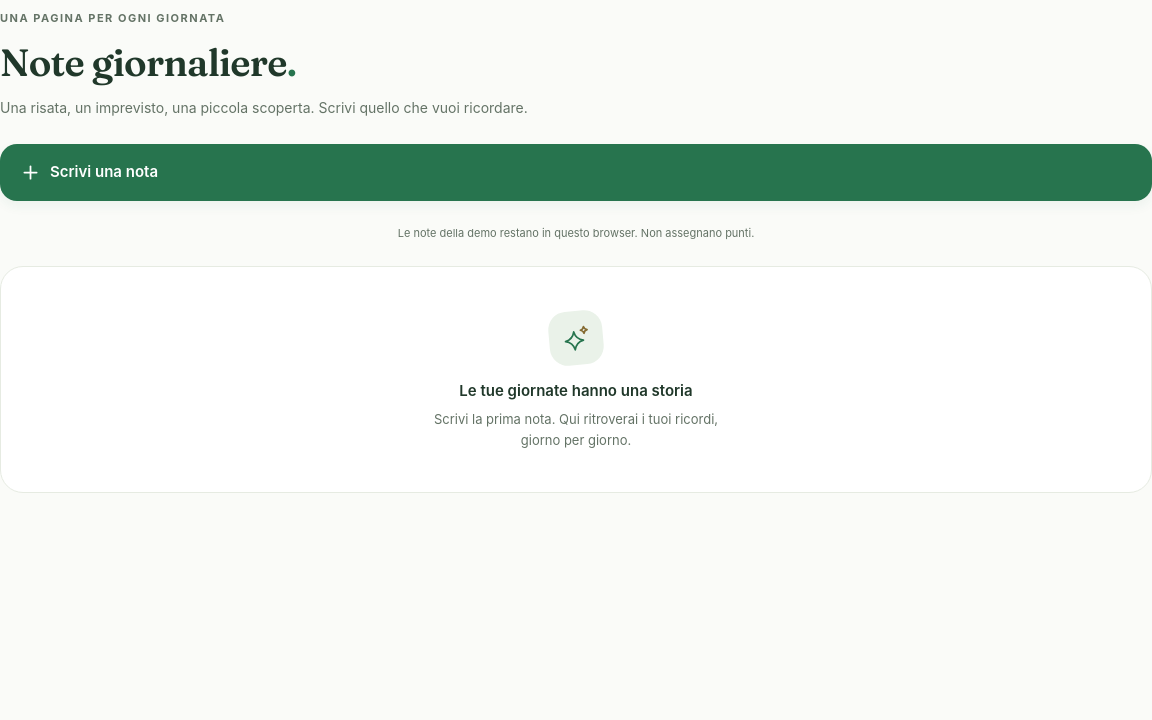
it: salva e rilegge le note raggruppate per giorno, con data italiana e rimozione confermata
Later steps or results of the test are not shown.
Click the button "Scrivi una nota".
click(104, 171)  # box [0, 144, 1151, 201]
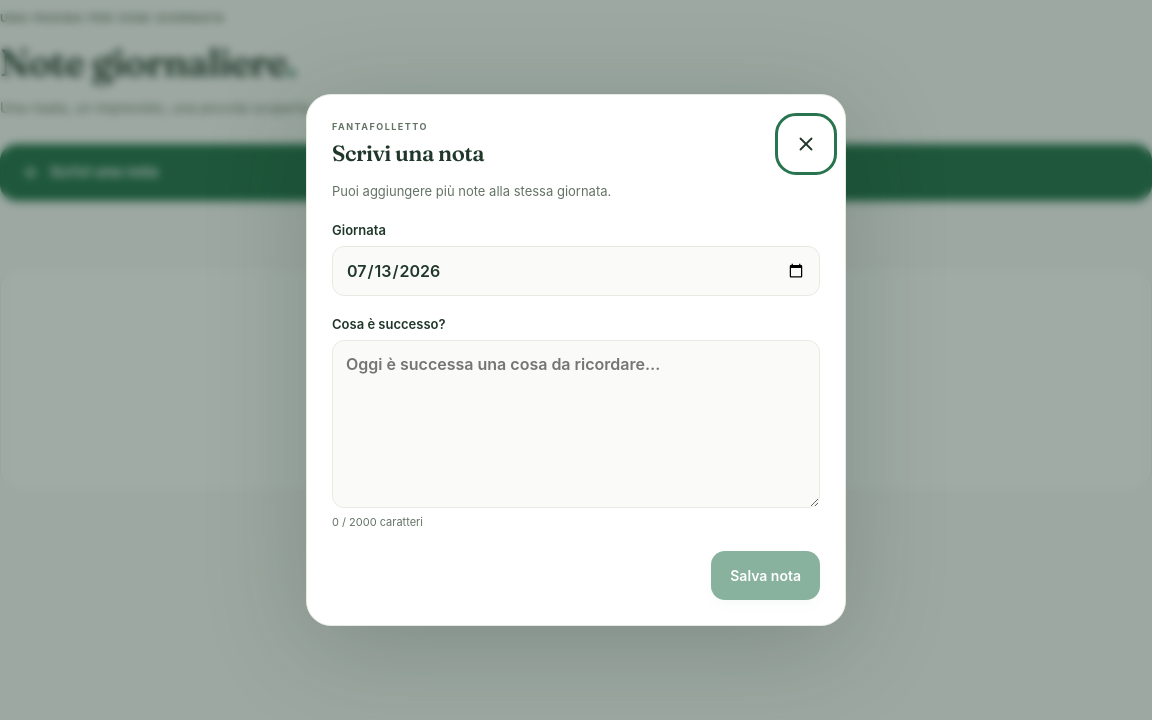
Now the date field labelled "Giornata" holds "2026-07-13", box [332, 246, 820, 296]
Type "Una risata da ricordare" into the text box labelled "Cosa è successo?".
click(576, 424); type("Una risata da ricordare")  # box [332, 340, 820, 508]
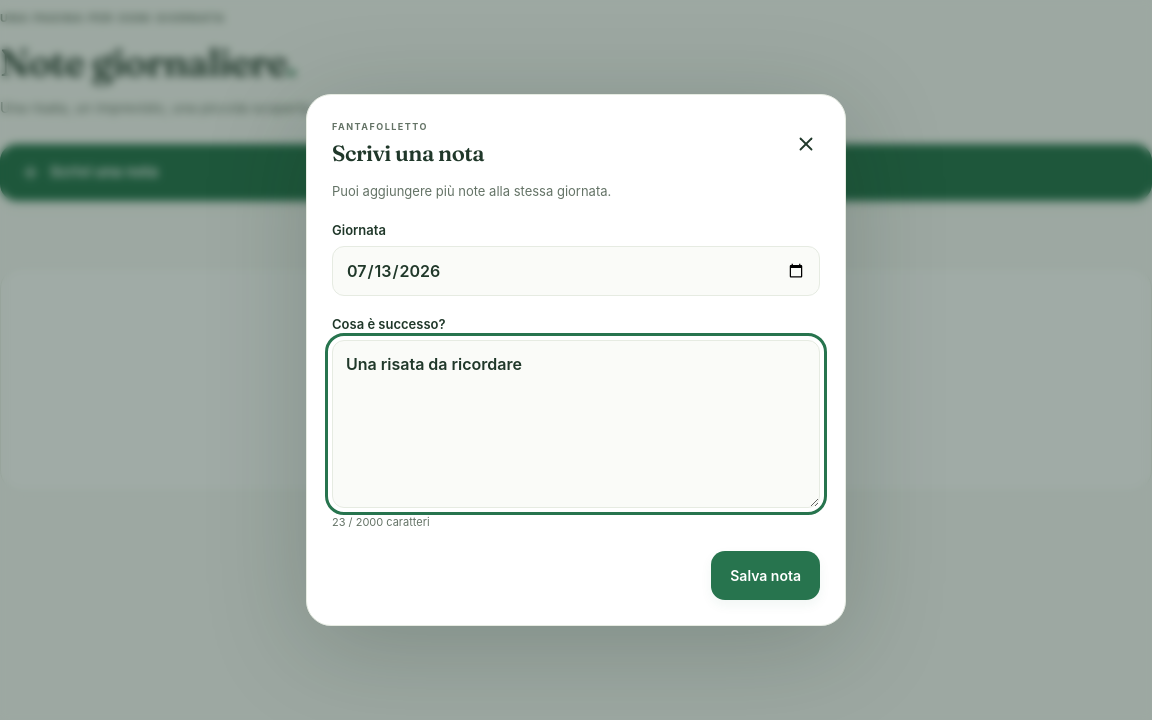
Click the button "Salva nota".
click(766, 576)  # box [711, 551, 820, 600]
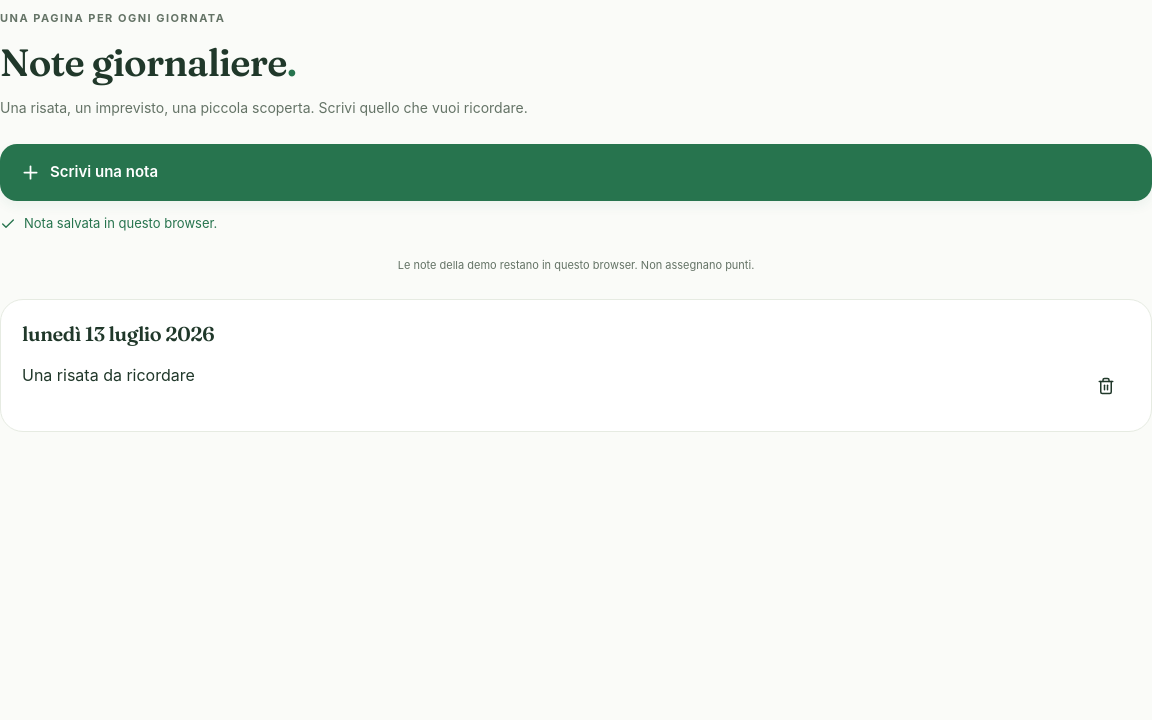
Now the text "Una risata da ricordare" is shown, box [22, 365, 195, 385]
